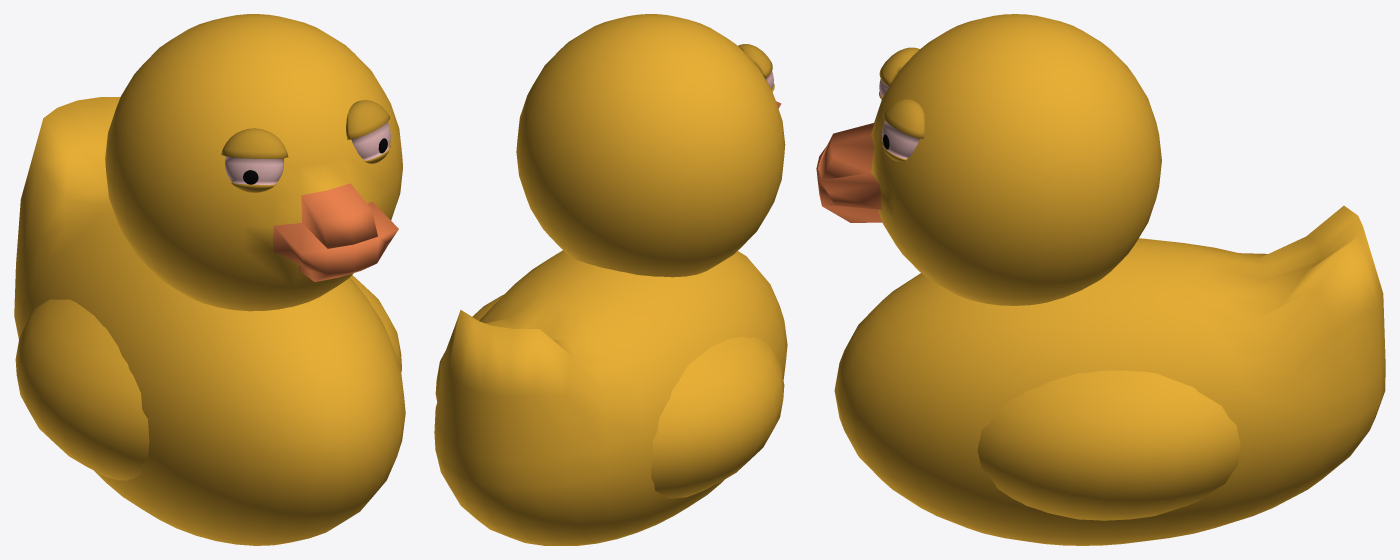
The model's file is duck.glb.
3 views of the same model, side by side, from view 1: azimuth 30°, elevation 25°; view 2: azimuth 150°, elevation 25°; view 3: azimuth 270°, elevation 25° (orthographic). The views are drawn at different scales.
Parts seen in each view (by area): view 1: Sphere, Sphere.001, Sphere.002, Sphere.004, Sphere.003; view 2: Sphere, Sphere.001, Sphere.002, Sphere.004; view 3: Sphere, Sphere.001, Sphere.002, Sphere.003, Sphere.004.
Boxes of the visible parts, <box> form: Sphere: <box>14,97,405,545</box>; Sphere.001: <box>105,14,402,311</box>; Sphere.002: <box>15,275,401,480</box>; Sphere.004: <box>221,128,288,192</box>; Sphere.003: <box>346,100,391,163</box>; Sphere: <box>434,250,787,545</box>; Sphere.001: <box>516,14,785,277</box>; Sphere.002: <box>435,294,784,498</box>; Sphere.004: <box>738,44,774,91</box>; Sphere: <box>834,205,1385,545</box>; Sphere.001: <box>816,14,1161,305</box>; Sphere.002: <box>977,370,1240,520</box>; Sphere.003: <box>881,99,925,161</box>; Sphere.004: <box>879,47,919,99</box>.
Bounding box in the file's own units: 3.36 × 4.89 × 5.
